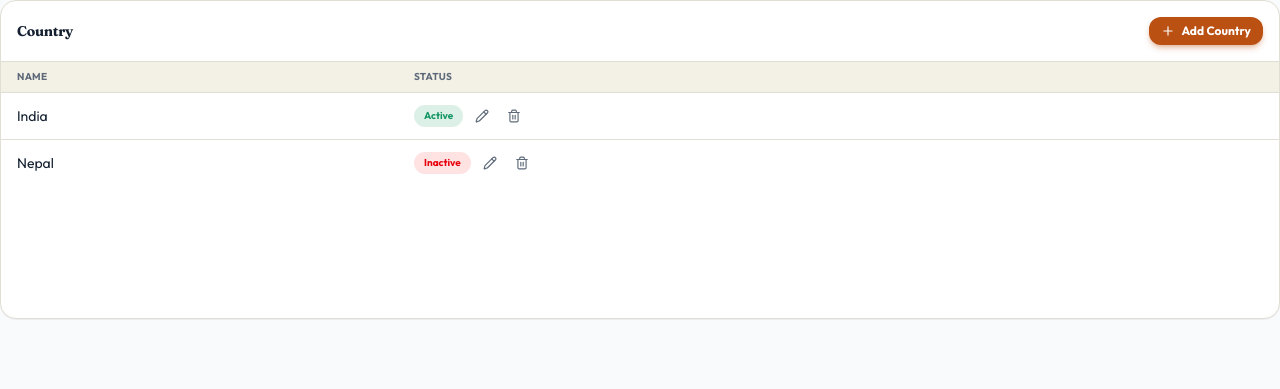
Scenario: MasterDataTable › delete (plan Part A) › surfaces an inline error and keeps the row when deleteFn rejects (e.g. a future FK-dependent case)
Expected: the text "India" is shown, 1,93 -> 398,140
Click the button named "Delete Country" in the row of "India" at (514, 116), box 501,103 -> 527,129
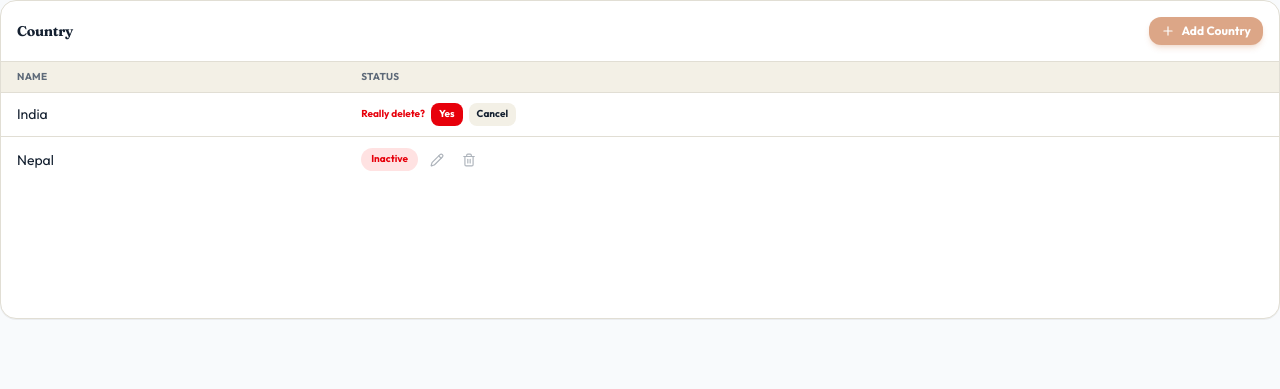
Click the button "Yes" at (447, 114), box 431,103 -> 463,126
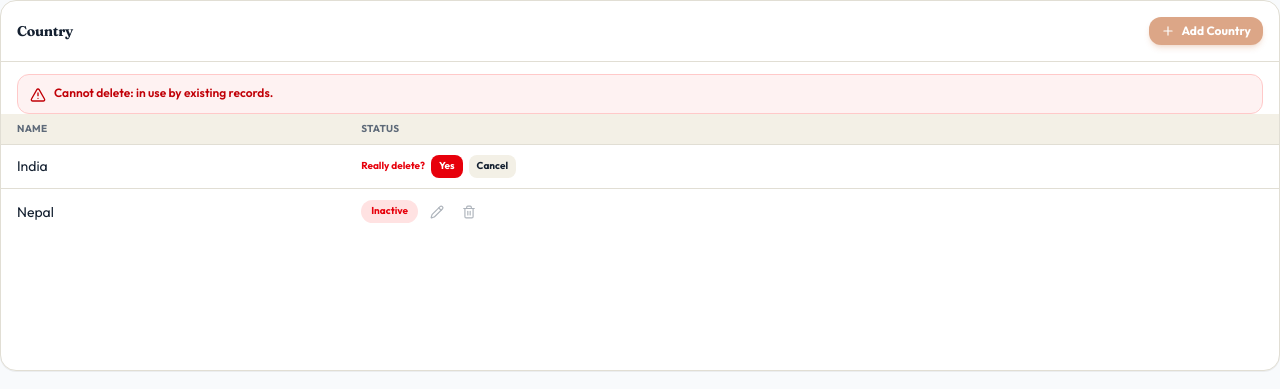
Expected: the text "India" is shown, 1,145 -> 345,188
Expected: the text "Cannot delete: in use by existing records." is shown, 54,85 -> 273,101
